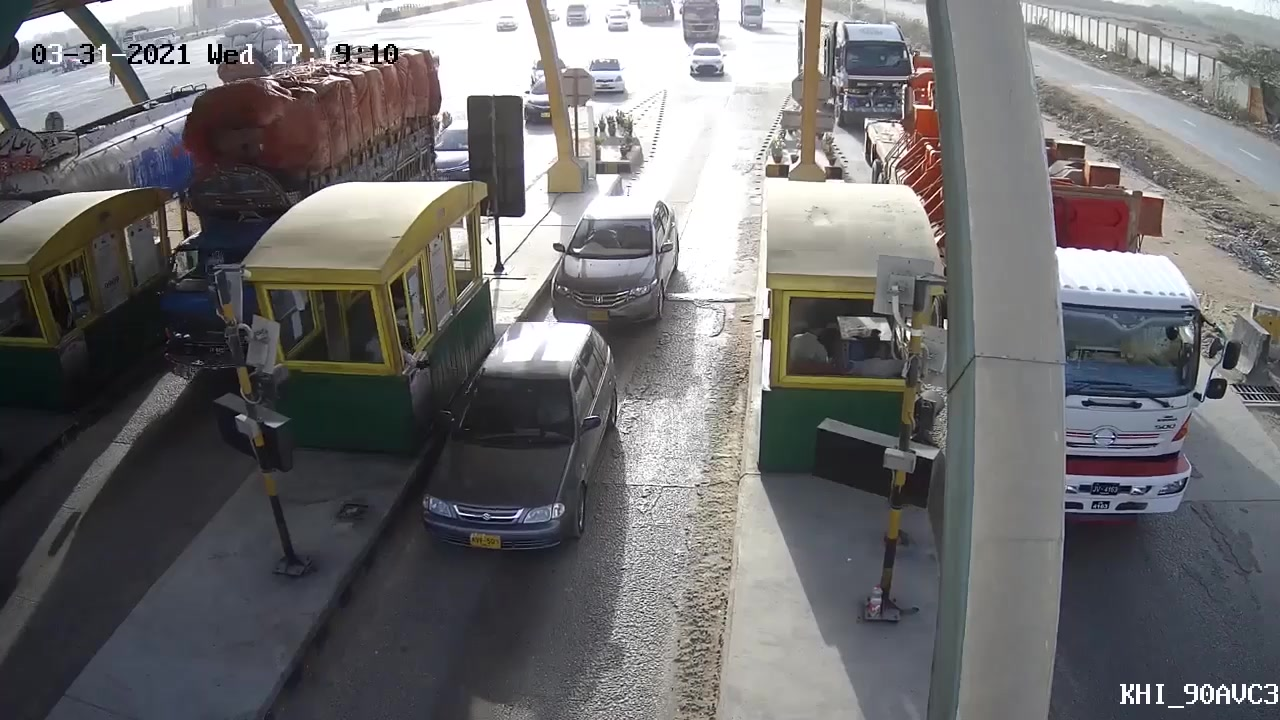F1: (401, 318, 627, 575), (536, 193, 688, 334)
